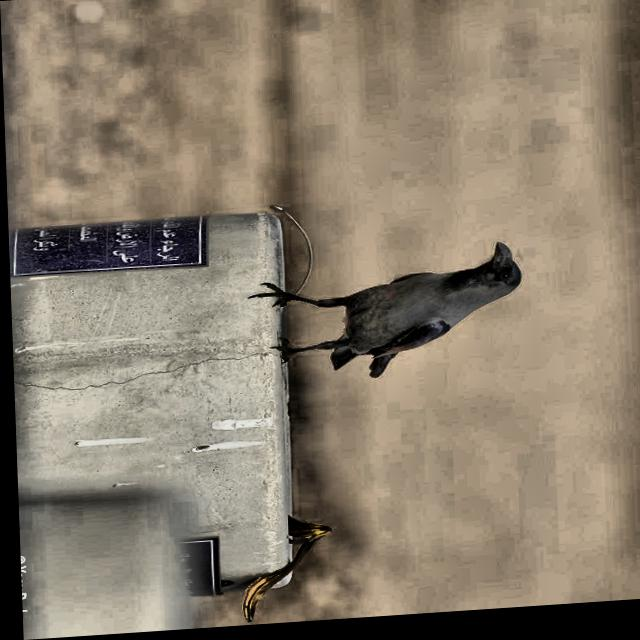crow: (231, 209, 560, 391)
